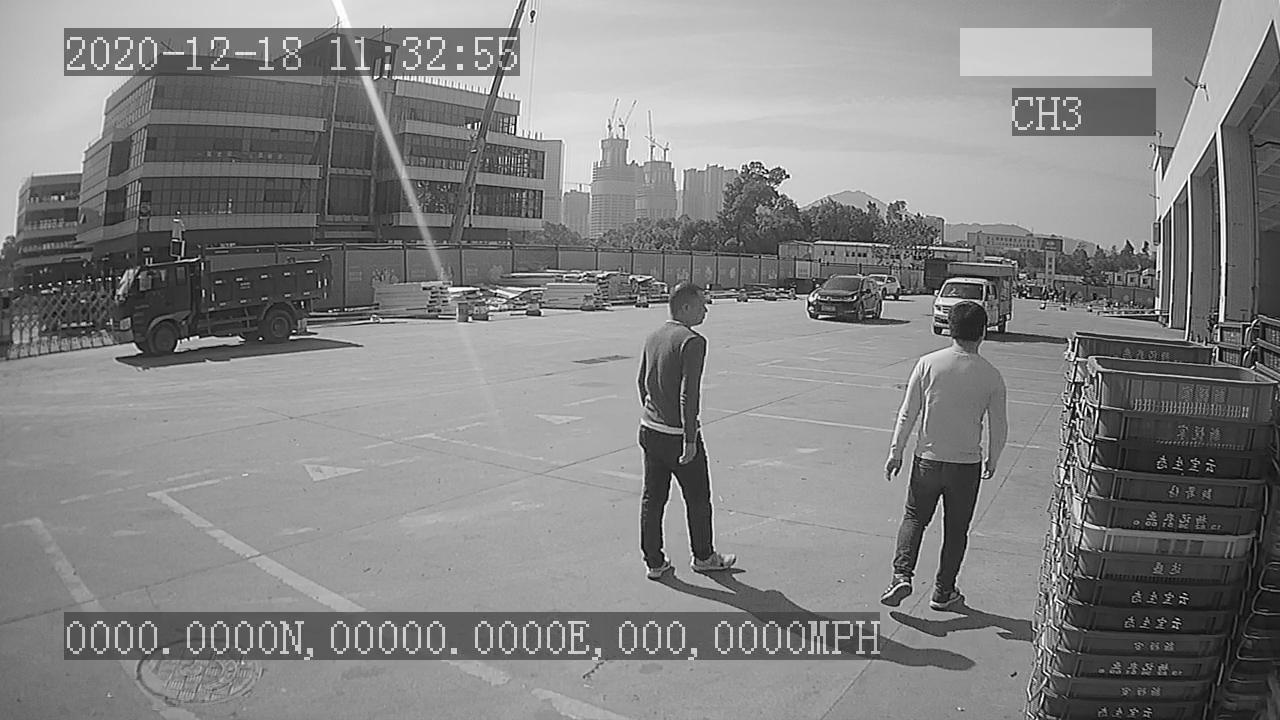person: (633, 279, 740, 582)
